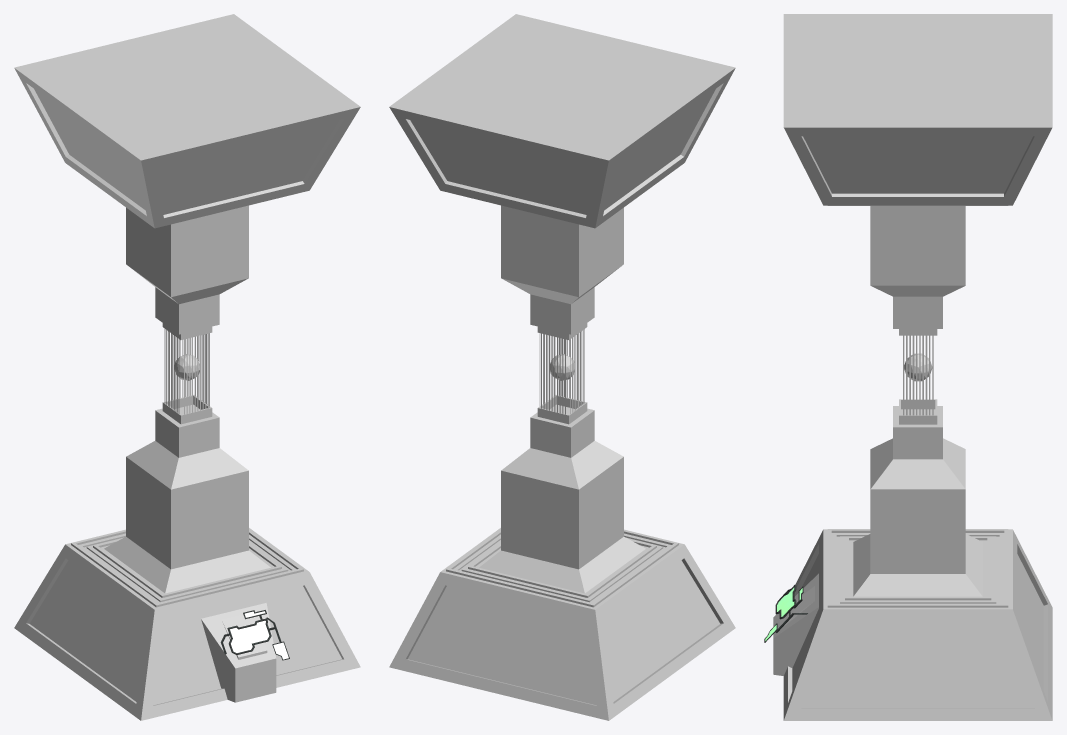
The model's file is MoonpoolTerminalMain_2.fbx.
3 renders of one model, left to right at view 1: azimuth 30°, elevation 25°; view 2: azimuth 150°, elevation 25°; view 3: azimuth 270°, elevation 25°, orthographic. The views are drawn at different scales.
Visible parts, largest first — view 1: MoonpoolTerminalMain.002, Cube.131, Plane.210, Plane.211, Plane.200, Cube.132; view 2: MoonpoolTerminalMain.002, Plane.210, Plane.211; view 3: MoonpoolTerminalMain.002, Cube.131, Plane.211, Icosphere.005.
Boxes of the visible parts, left/top/right/bottom form: MoonpoolTerminalMain.002: left=14, top=14, right=360, bottom=720; Cube.131: left=201, top=603, right=276, bottom=702; Plane.210: left=167, top=330, right=208, bottom=414; Plane.211: left=164, top=329, right=209, bottom=413; Plane.200: left=230, top=620, right=269, bottom=652; Cube.132: left=222, top=614, right=267, bottom=659; MoonpoolTerminalMain.002: left=389, top=14, right=735, bottom=720; Plane.210: left=541, top=330, right=583, bottom=414; Plane.211: left=539, top=329, right=584, bottom=413; MoonpoolTerminalMain.002: left=783, top=14, right=1052, bottom=720; Cube.131: left=773, top=573, right=818, bottom=675; Plane.211: left=903, top=335, right=933, bottom=415; Icosphere.005: left=904, top=353, right=932, bottom=381.
Size of the model in its own units: 330 by 354 by 804.
